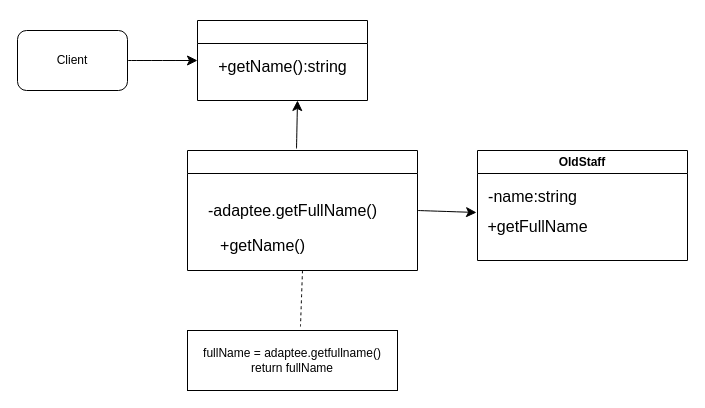
Image size: 705x408. Some labels were removed from this diagram. Here are the shapes that lost their labels. From the top down, the box of each, then its label:
(196, 20, 368, 100): <<interface>> IEmployee
(186, 150, 418, 270): EmployeeAdapter
